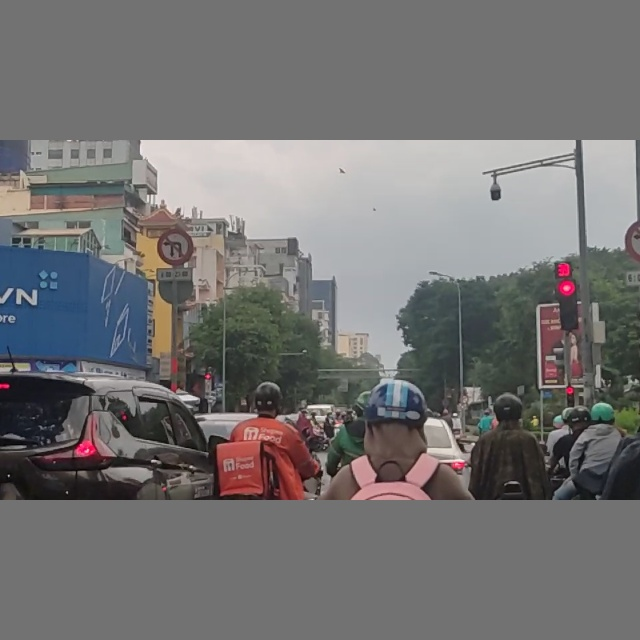P.124c: (158, 227, 195, 265)
